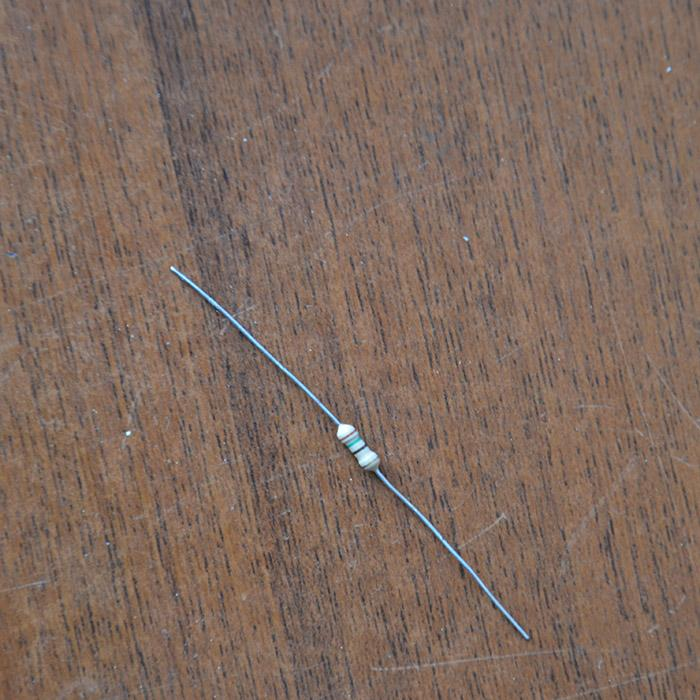resistor: (336, 421, 380, 473)
